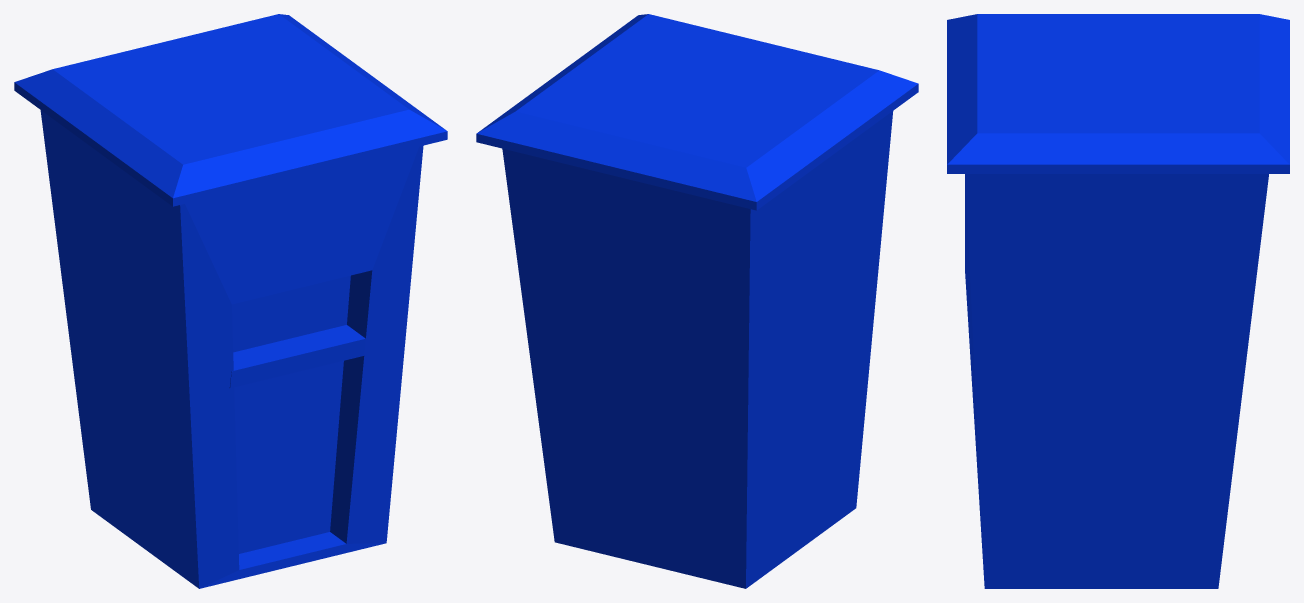
File: GarbageBin.FBX
3 renders of one model, left to right at view 1: azimuth 30°, elevation 25°; view 2: azimuth 150°, elevation 25°; view 3: azimuth 270°, elevation 25°, orthographic. The views are drawn at different scales.
Visible parts, largest first — view 1: Box002, Box003; view 2: Box002, Box003; view 3: Box002, Box003.
Boxes of the visible parts, x1,y1,x2,y2 form: Box002: (40,110,423,588); Box003: (14,14,447,206); Box002: (502,111,893,588); Box003: (476,14,918,210); Box002: (965,174,1268,588); Box003: (947,14,1289,173).
Size of the model in its own units: 7.39 by 11.08 by 7.39.
